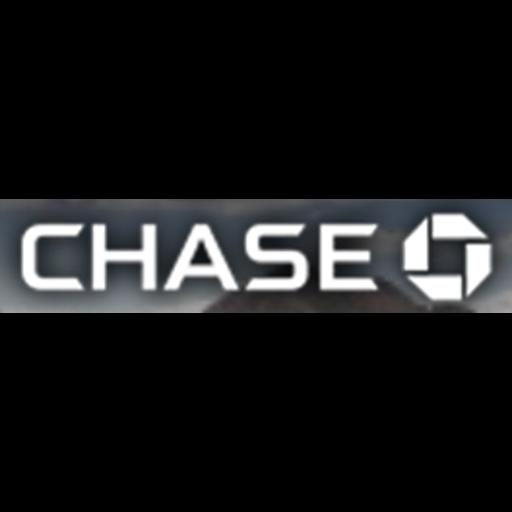Chase Personal Banking: (0, 199, 512, 313)
